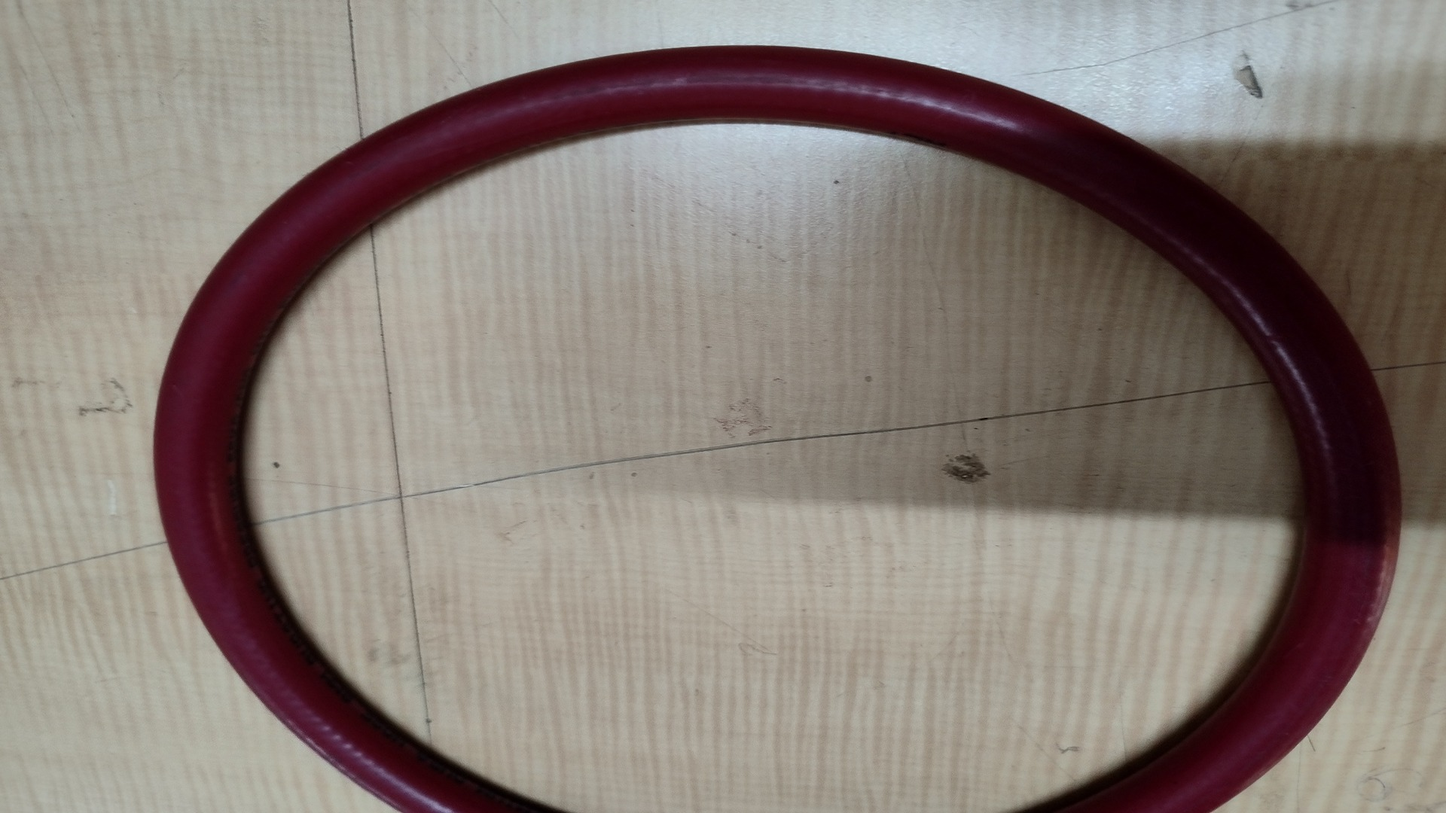Red ring: (155, 47, 1404, 813)
